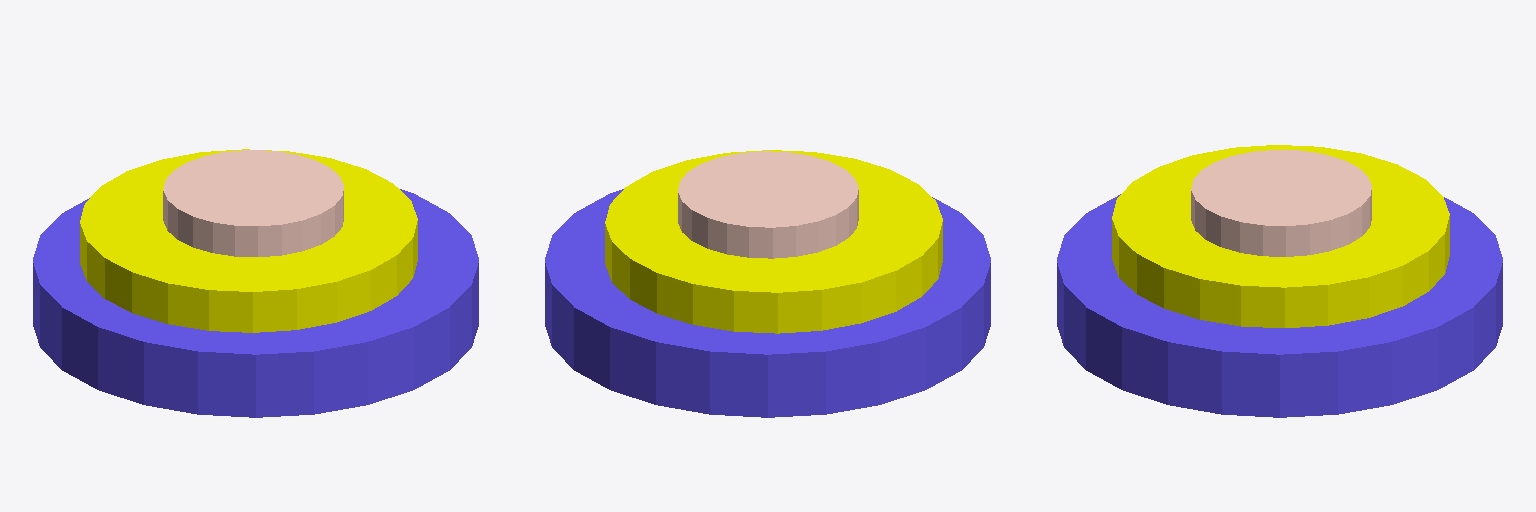
File: Cake.obj
3 renders of one model, left to right at view 1: azimuth 30°, elevation 25°; view 2: azimuth 150°, elevation 25°; view 3: azimuth 270°, elevation 25°, orthographic.
Parts seen in each view (by area): view 1: Mesh1 Group1 Model, Mesh2 Group2 Model, Mesh3 Group3 Model; view 2: Mesh1 Group1 Model, Mesh2 Group2 Model, Mesh3 Group3 Model; view 3: Mesh1 Group1 Model, Mesh2 Group2 Model, Mesh3 Group3 Model.
Boxes of the visible parts, x1,y1,x2,y2 form: Mesh1 Group1 Model: [33, 189, 478, 417]; Mesh2 Group2 Model: [80, 149, 417, 332]; Mesh3 Group3 Model: [163, 150, 343, 256]; Mesh1 Group1 Model: [545, 189, 990, 417]; Mesh2 Group2 Model: [605, 150, 942, 333]; Mesh3 Group3 Model: [678, 151, 858, 258]; Mesh1 Group1 Model: [1057, 194, 1502, 417]; Mesh2 Group2 Model: [1112, 145, 1449, 327]; Mesh3 Group3 Model: [1191, 150, 1371, 256].
Size of the model in its own units: 3005 by 1001 by 3005.